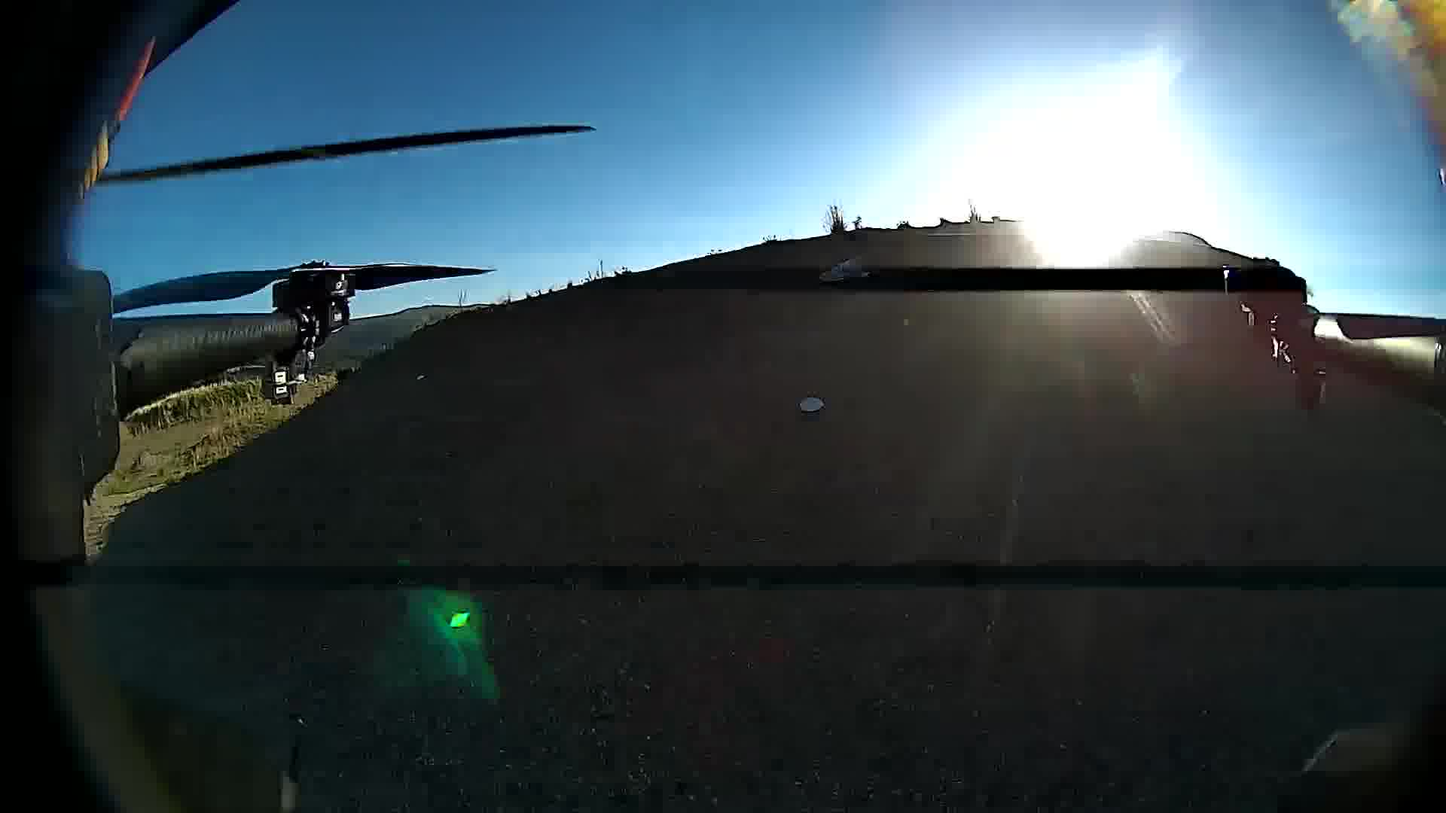Target: (798, 396, 827, 413)
